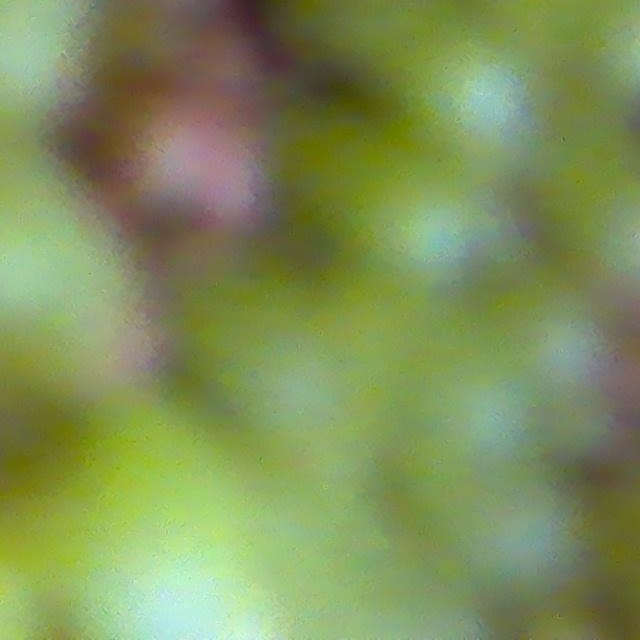SeaGrape: (208, 274, 384, 456), (347, 153, 496, 293), (391, 10, 540, 150), (452, 471, 592, 608), (500, 276, 612, 396)
